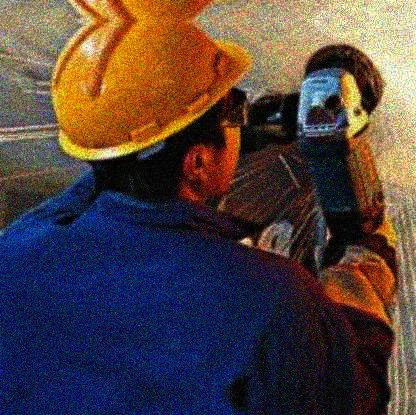helmet: (53, 21, 254, 196)
